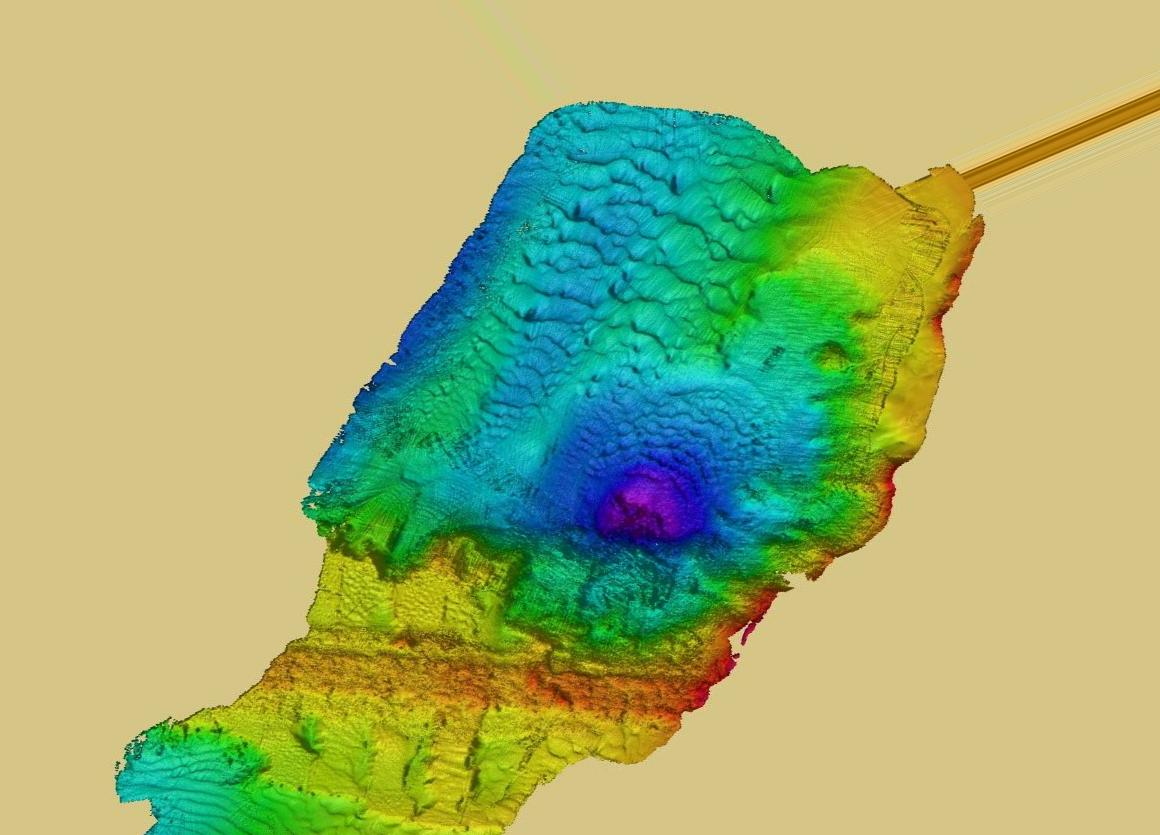Dune: (534, 104, 757, 371), (617, 383, 752, 463), (151, 749, 240, 824)
Scarp: (679, 563, 868, 721), (793, 449, 949, 629)
Scour pit: (553, 439, 747, 552)
Submerged dike: (236, 597, 688, 760)
